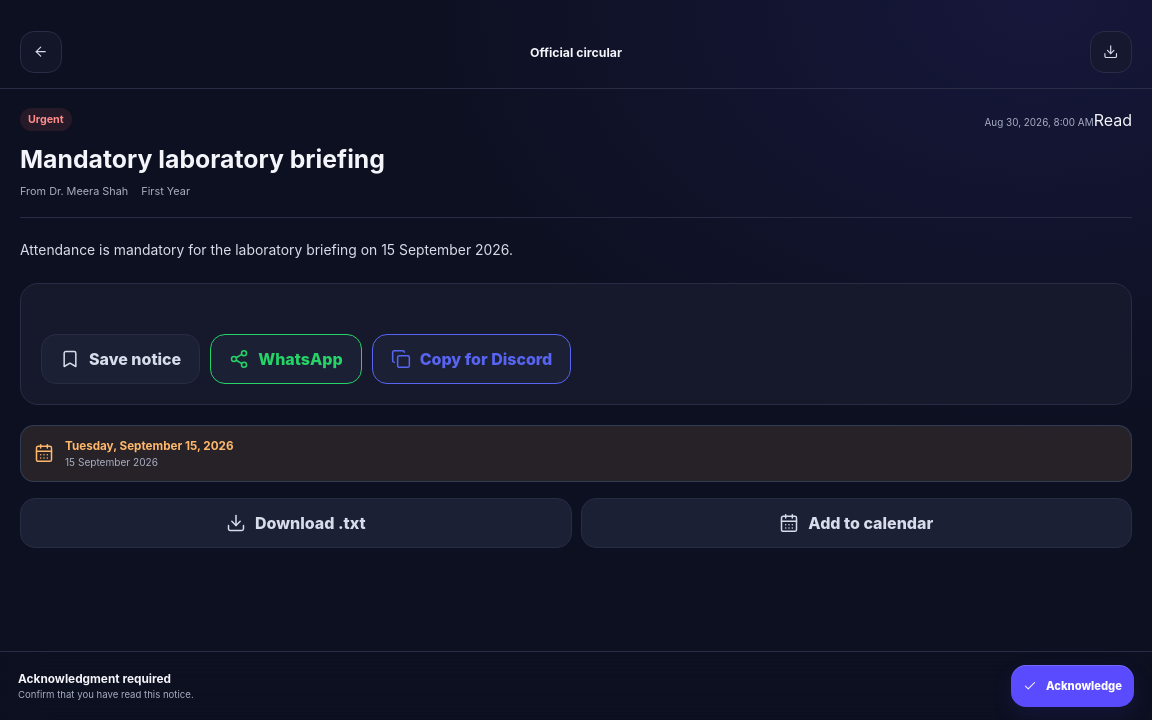
Test case: StudentPortal Tier 2 controls › acknowledges a required circular and offers calendar export only for its detected date
Expected: the heading "Mandatory laboratory briefing" is shown, [20,144,385,174]
Expected: the text "15 September 2026" is shown, [65,456,158,468]
Click the button "Acknowledge". click: (1072, 686)
box: [1011,665,1134,707]
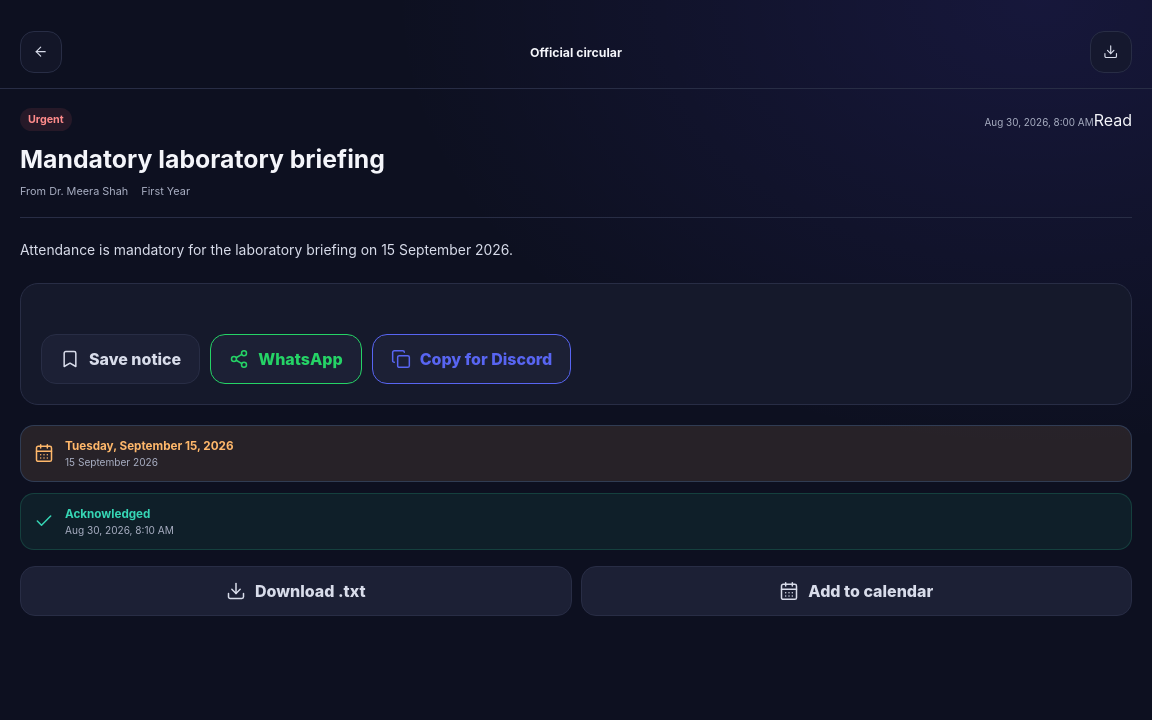
Expected: the text "Acknowledged" is shown, [65,507,150,521]
